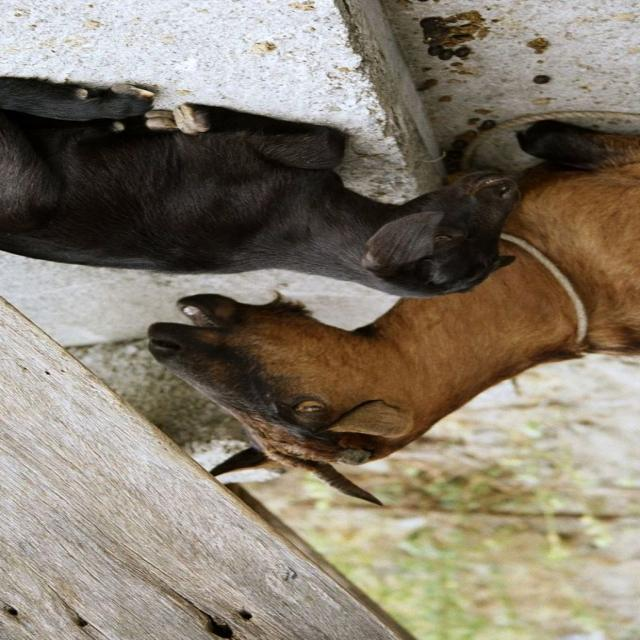Goat: (147, 120, 640, 509), (2, 77, 523, 299)
